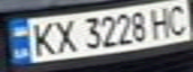2: (100, 11, 121, 48), (115, 10, 136, 46)
3: (78, 15, 103, 51)
8: (130, 8, 151, 43)
C: (163, 1, 193, 36)
H: (145, 3, 175, 39)
K: (24, 19, 60, 57)
X: (48, 17, 81, 54)
